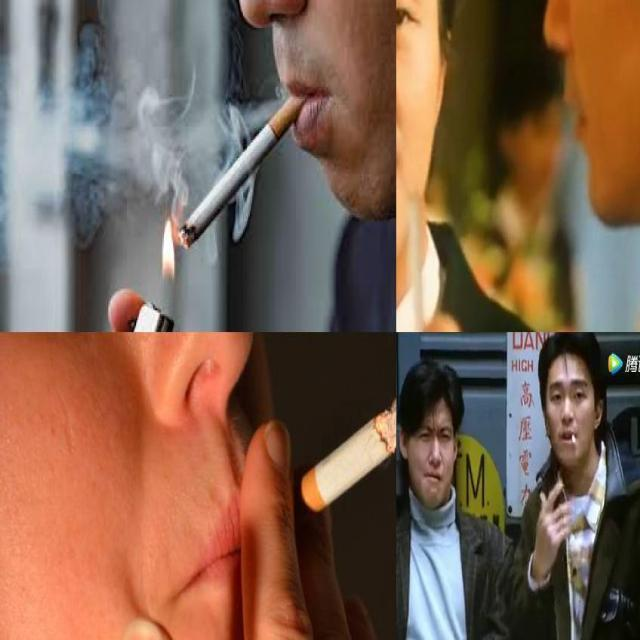smoking: (180, 90, 308, 251), (286, 377, 396, 535), (566, 426, 580, 447)
